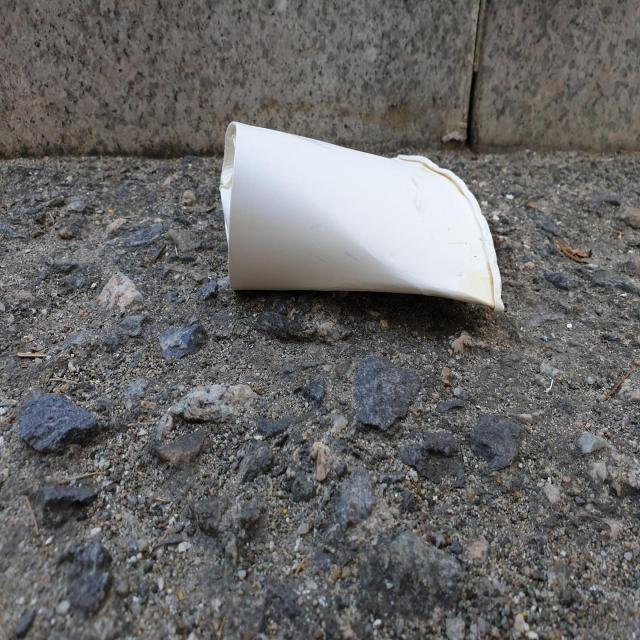paperpack: (220, 120, 505, 311)
